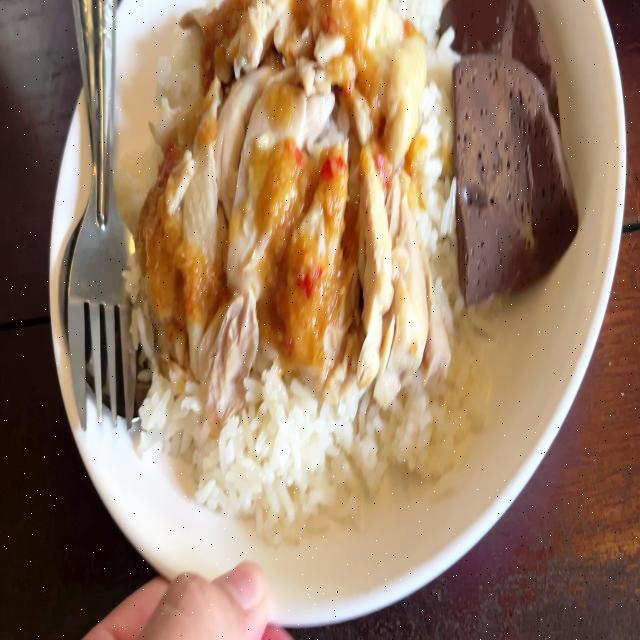boiled_chicken: (150, 0, 428, 347)
boiled_chicken_blood_jelly: (452, 0, 567, 278)
chicken_rice: (129, 0, 560, 515)
